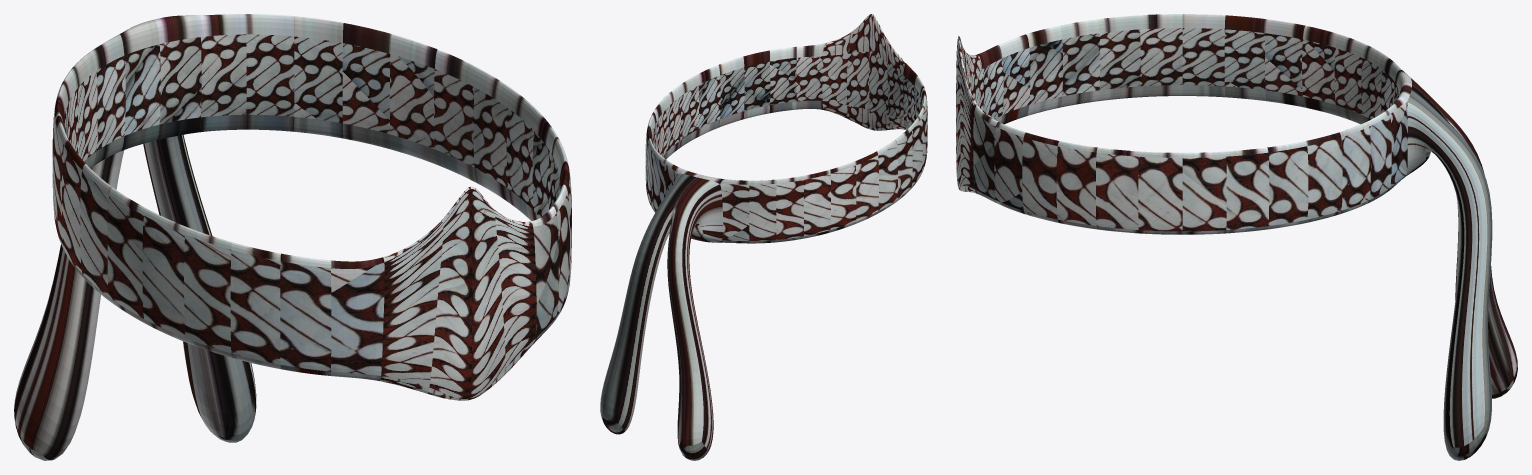
The model's file is iket sunda3.fbx.
3 views of the same model, side by side, from view 1: azimuth 30°, elevation 25°; view 2: azimuth 150°, elevation 25°; view 3: azimuth 270°, elevation 25° (orthographic). The views are drawn at different scales.
Visible parts, largest first — view 1: Cube.001; view 2: Cube.001; view 3: Cube.001.
Boxes of the visible parts, x1,y1,x2,y2 form: Cube.001: (14,14,571,460); Cube.001: (600,14,927,460); Cube.001: (956,14,1517,460).
Bounding box in the file's own units: 136 × 172 × 228.
Materials: 1 (1 with a texture image).
